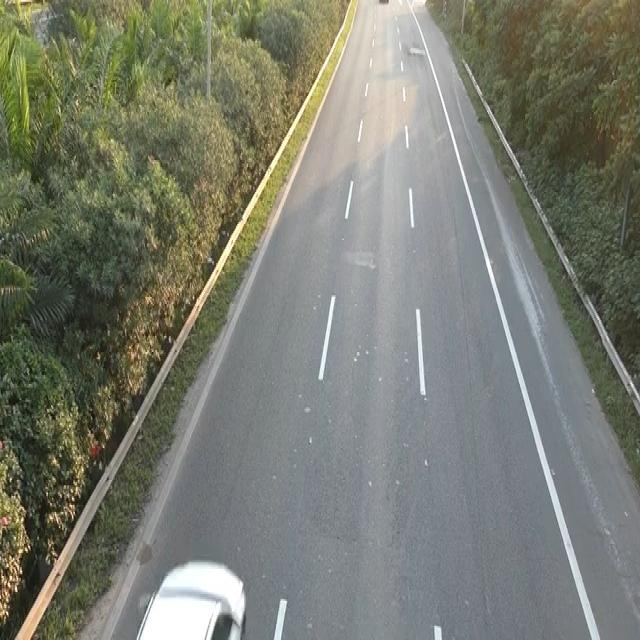bus: (134, 554, 248, 636)
